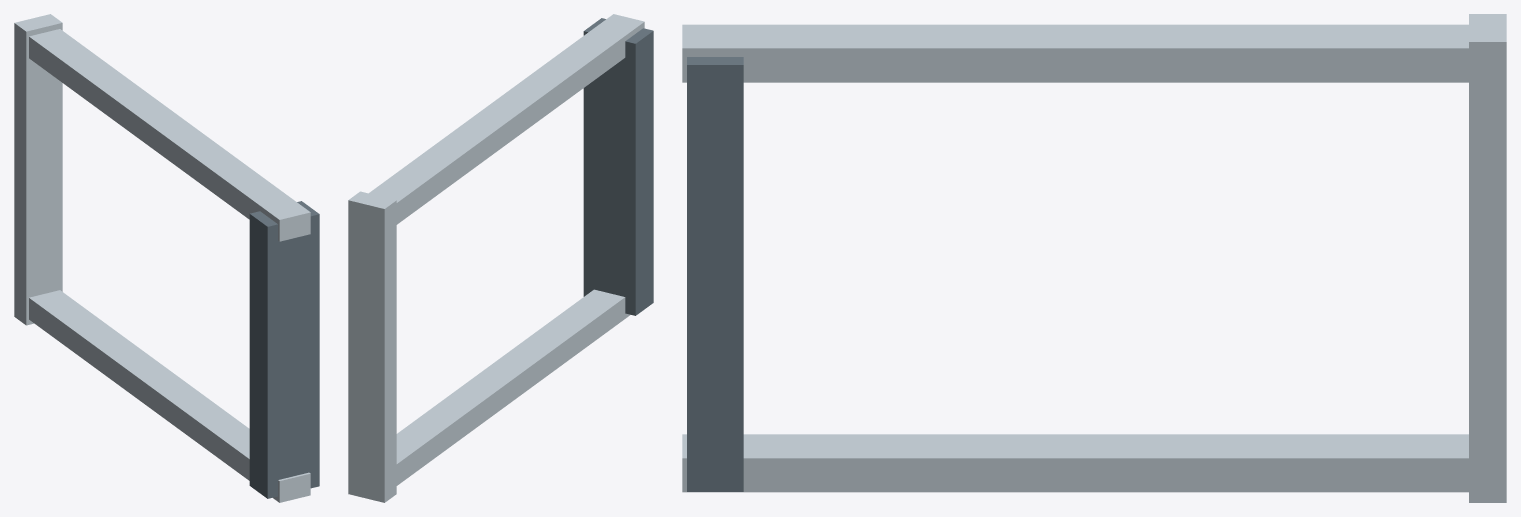
The model's file is correction-support.glb.
The picture shows the model from 3 angles, left to right: view 1: azimuth 30°, elevation 25°; view 2: azimuth 150°, elevation 25°; view 3: azimuth 270°, elevation 25°; orthographic projection. The views are drawn at different scales.
Parts seen in each view (by area): view 1: support lower cradle, support upright.001, support top bridge, support upright; view 2: support lower cradle, support top bridge, support upright.001, support upright; view 3: support upright.001, support upright, support lower cradle, support top bridge.
Boxes of the visible parts, <box> form: support lower cradle: <box>249,201,319,498</box>; support upright.001: <box>29,29,310,241</box>; support top bridge: <box>14,14,62,325</box>; support upright: <box>29,290,310,502</box>; support lower cradle: <box>583,18,653,315</box>; support top bridge: <box>348,191,396,502</box>; support upright.001: <box>369,14,644,224</box>; support upright: <box>396,289,630,485</box>; support upright.001: <box>682,24,1468,82</box>; support upright: <box>682,434,1468,492</box>; support lower cradle: <box>687,57,743,491</box>; support top bridge: <box>1469,14,1506,502</box>.
Bounding box in the file's own units: 0.2 × 1.08 × 1.75.
